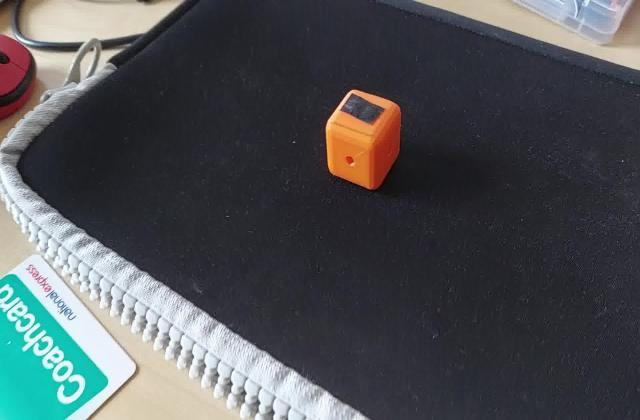black: (340, 98, 388, 127)
cube: (322, 82, 404, 192)
